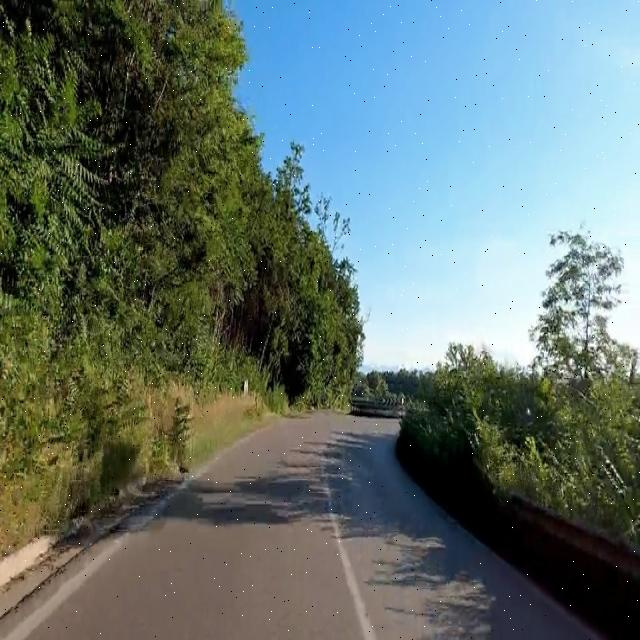lane: (6, 534, 129, 640), (329, 504, 376, 640), (129, 494, 172, 529)
road: (1, 411, 595, 638)
